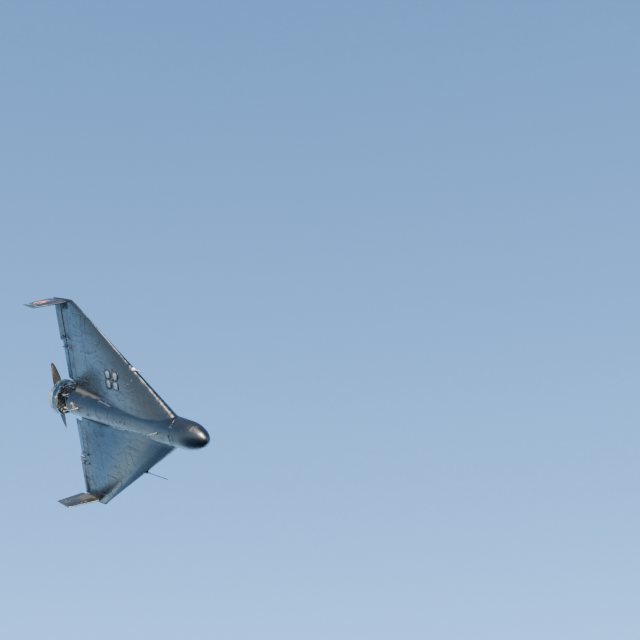shahed: (23, 297, 211, 508)
